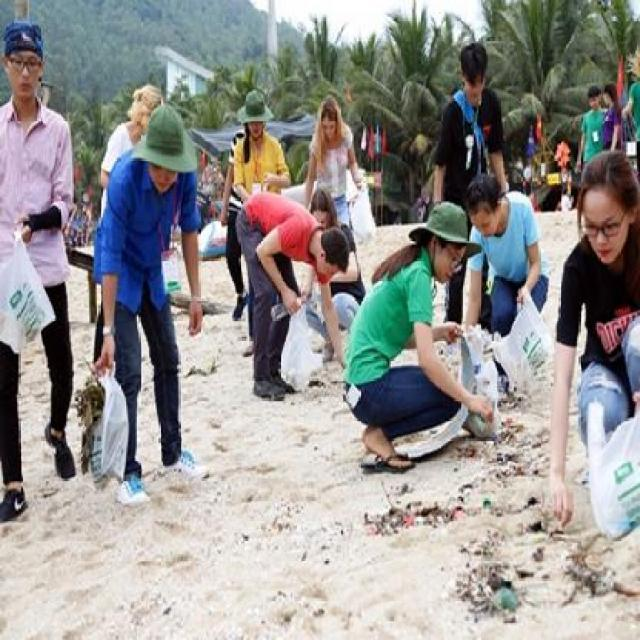plastic bag: (0, 226, 58, 370), (582, 404, 638, 544), (488, 282, 548, 402), (78, 366, 136, 482), (454, 328, 501, 442), (349, 172, 380, 258)
